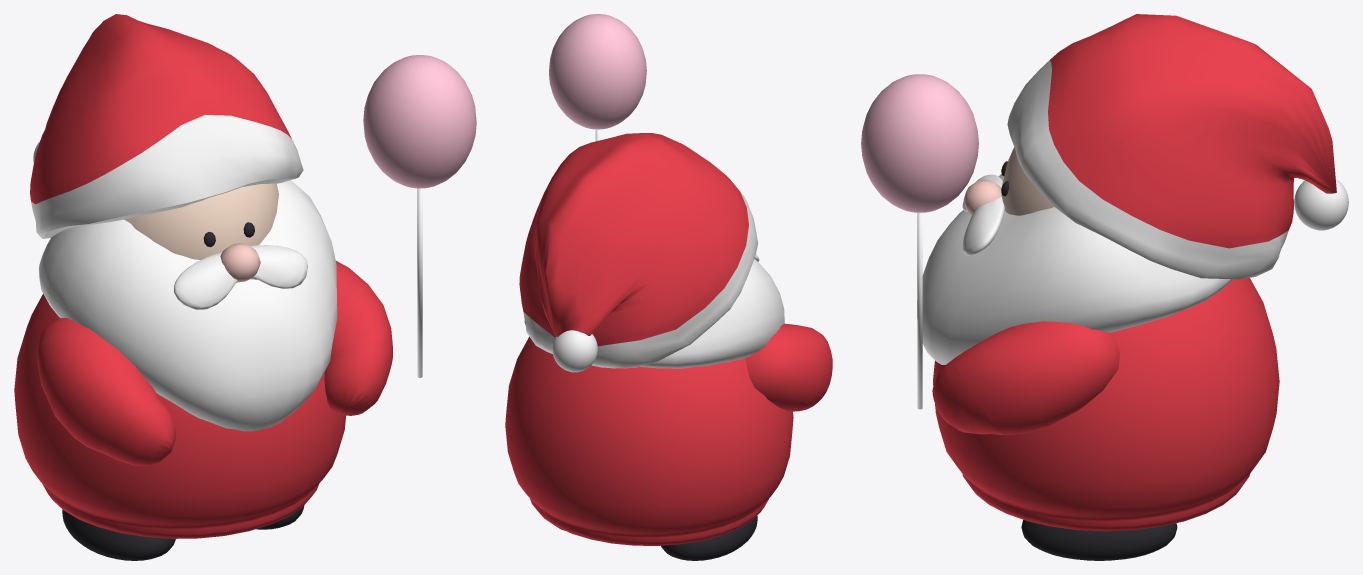
File: wheel.glb
3 renders of one model, left to right at view 1: azimuth 30°, elevation 25°; view 2: azimuth 150°, elevation 25°; view 3: azimuth 270°, elevation 25°, orthographic. The views are drawn at different scales.
Parts seen in each view (by area): view 1: wheel_red, wheel_white, wheel_pink, wheel_skin, wheel_black, wheel_nose; view 2: wheel_red, wheel_white, wheel_pink, wheel_black; view 3: wheel_red, wheel_white, wheel_pink, wheel_black, wheel_skin, wheel_nose.
Part boxes in pixels (x1,y1,x2,y2): wheel_red: [14, 14, 392, 538]; wheel_white: [31, 115, 422, 431]; wheel_pink: [363, 55, 476, 188]; wheel_skin: [124, 183, 278, 259]; wheel_black: [62, 222, 304, 560]; wheel_nose: [220, 243, 260, 282]; wheel_red: [505, 133, 832, 545]; wheel_white: [523, 129, 784, 372]; wheel_pink: [549, 14, 646, 129]; wheel_black: [558, 516, 757, 560]; wheel_red: [932, 14, 1336, 531]; wheel_white: [917, 60, 1348, 409]; wheel_pink: [861, 74, 978, 212]; wheel_black: [1001, 161, 1177, 560]; wheel_skin: [1001, 147, 1053, 215]; wheel_nose: [963, 180, 1001, 215].
Bounding box in the file's own units: 2.37 × 3.1 × 2.67.
